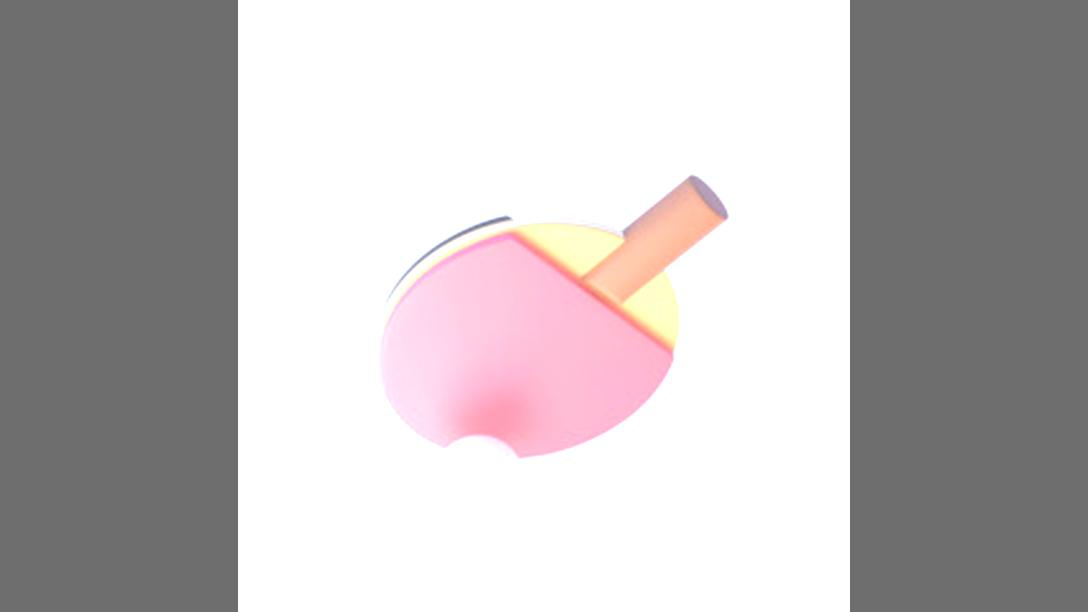Table-Tennis-Ball: (434, 438, 522, 528)
